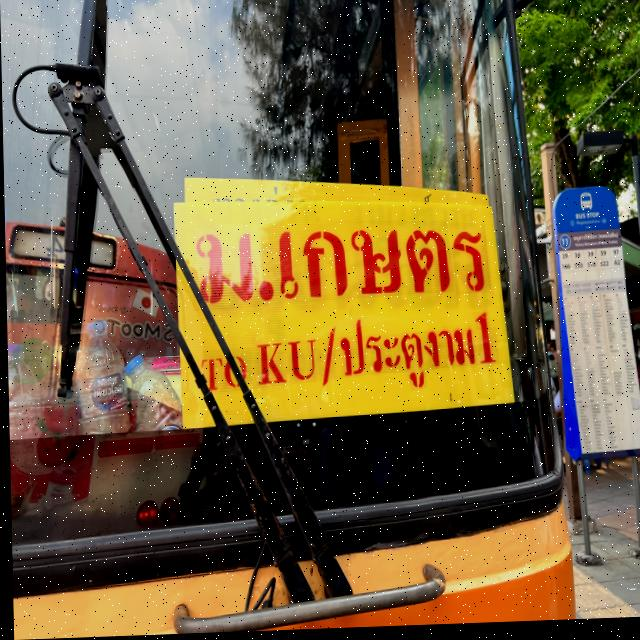BMTA-bus: (0, 0, 575, 640)
Destination Sign: (173, 193, 512, 417)
